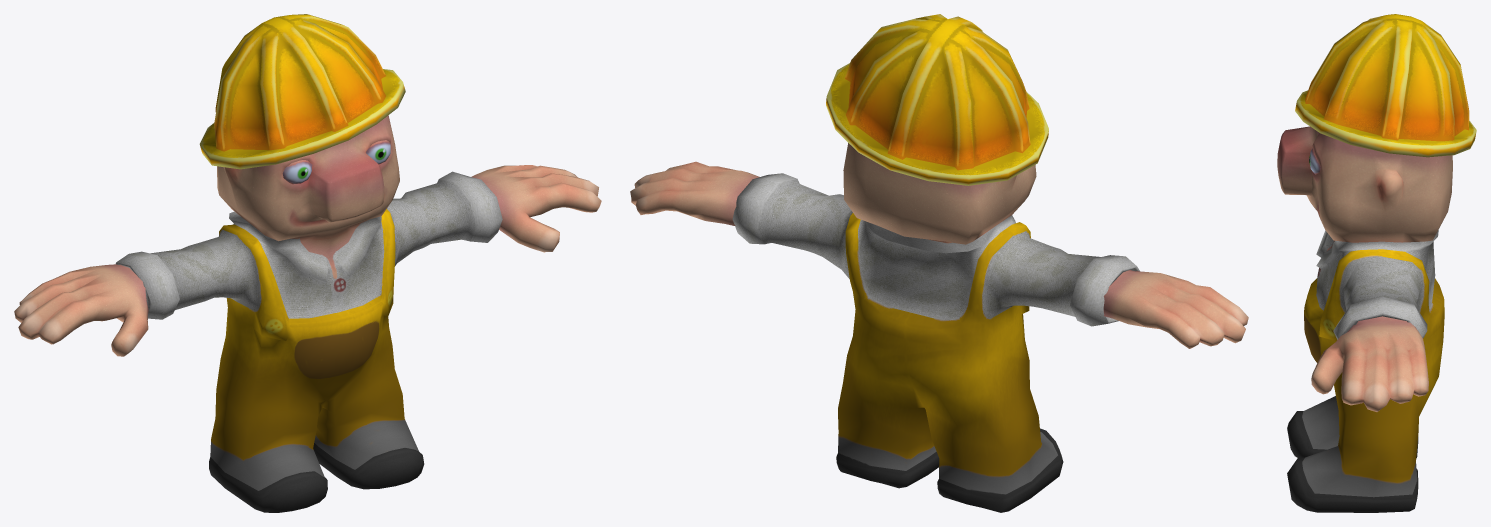
File: character.fbx
The picture shows the model from 3 angles, left to right: view 1: azimuth 30°, elevation 25°; view 2: azimuth 150°, elevation 25°; view 3: azimuth 270°, elevation 25°; orthographic projection. The views are drawn at different scales.
Visible parts, largest first — view 1: character; view 2: character; view 3: character.
Boxes of the visible parts, left/top/right/bottom form: character: left=14, top=14, right=601, bottom=512; character: left=630, top=14, right=1248, bottom=512; character: left=1277, top=14, right=1476, bottom=512.
Bounding box in the file's own units: 773 × 572 × 228.
